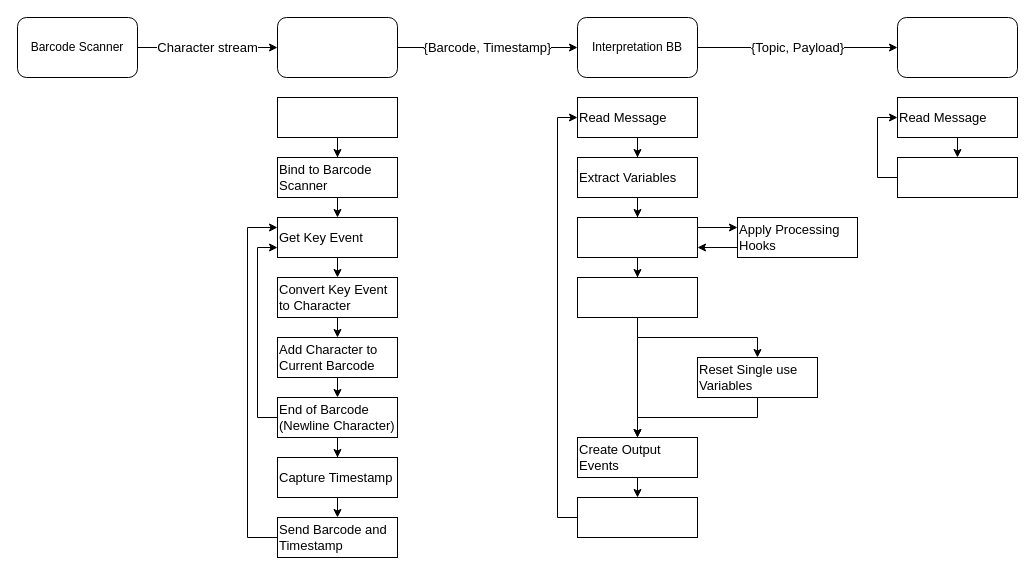
Image size: 1035x575. Some labels were removed from this diagram. The shapes that lost their labels are listed below. From the top down, each one's centre as x and y in pixels, then its label:
(337,47): Barcode Scan Driver BB
(957,47): MQTT Service Wrapper
(337,117): Find Barcode Scanner
(957,177): Send Message to Specified Topic
(637,237): Update Variable Table
(637,297): Evaluate Output Triggers
(637,517): Send Output Events
